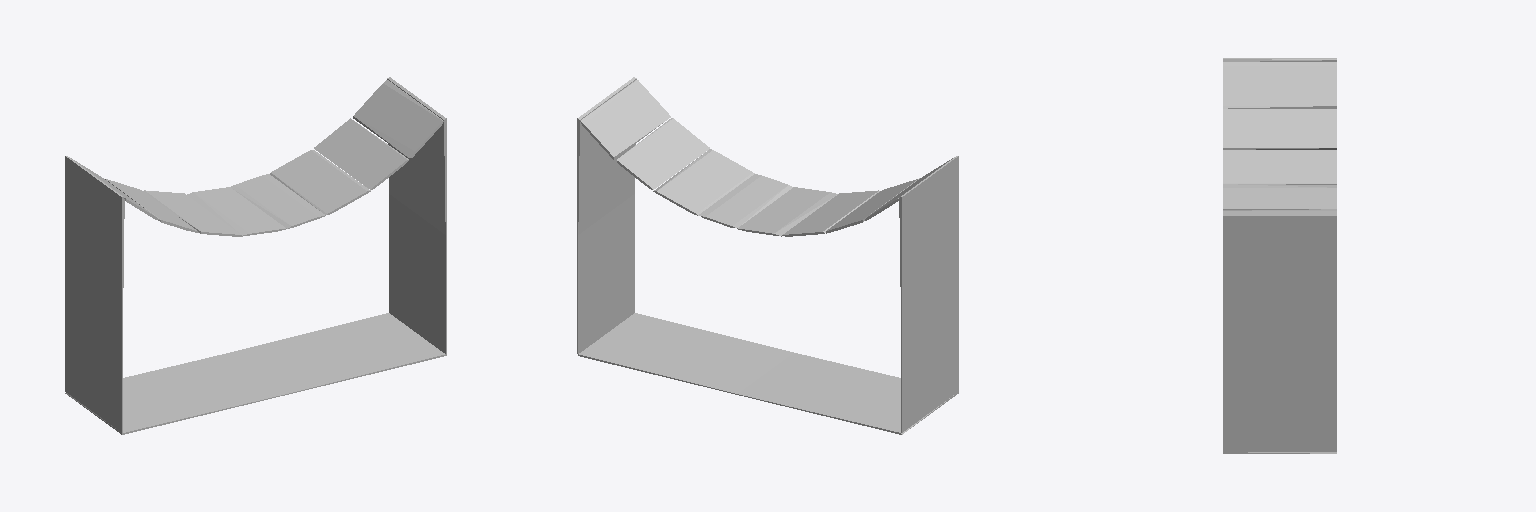
File: concave-object-vhacd.obj
3 renders of one model, left to right at view 1: azimuth 30°, elevation 25°; view 2: azimuth 150°, elevation 25°; view 3: azimuth 270°, elevation 25°, orthographic.
Parts seen in each view (by area): view 1: convex_3, convex_0, convex_2, convex_4, convex_1, convex_5, convex_13, convex_12, convex_11, convex_10, convex_9, convex_8 (+1 smaller); view 2: convex_3, convex_0, convex_2, convex_4, convex_1, convex_5, convex_13, convex_12, convex_11, convex_10, convex_9, convex_8 (+1 smaller); view 3: convex_4, convex_5, convex_6, convex_7, convex_8, convex_9, convex_10.
Part boxes in pixels (bbox=[...]): convex_3: bbox=[230, 313, 446, 394]; convex_0: bbox=[65, 353, 286, 434]; convex_2: bbox=[65, 156, 124, 318]; convex_4: bbox=[389, 194, 446, 353]; convex_1: bbox=[65, 278, 122, 432]; convex_5: bbox=[387, 77, 446, 234]; convex_13: bbox=[353, 80, 443, 157]; convex_12: bbox=[314, 118, 408, 189]; convex_11: bbox=[270, 150, 370, 214]; convex_10: bbox=[231, 174, 325, 228]; convex_9: bbox=[187, 187, 286, 236]; convex_8: bbox=[144, 190, 241, 236]; convex_3: bbox=[578, 313, 793, 394]; convex_0: bbox=[737, 353, 958, 434]; convex_2: bbox=[899, 156, 958, 318]; convex_4: bbox=[577, 194, 634, 353]; convex_1: bbox=[901, 278, 958, 432]; convex_5: bbox=[577, 77, 636, 234]; convex_13: bbox=[580, 80, 670, 159]; convex_12: bbox=[617, 118, 709, 189]; convex_11: bbox=[653, 149, 754, 215]; convex_10: bbox=[699, 174, 792, 227]; convex_9: bbox=[737, 187, 837, 236]; convex_8: bbox=[782, 190, 879, 236]; convex_4: bbox=[1223, 333, 1336, 451]; convex_5: bbox=[1223, 216, 1336, 332]; convex_6: bbox=[1223, 62, 1336, 108]; convex_7: bbox=[1223, 109, 1336, 149]; convex_8: bbox=[1223, 150, 1336, 183]; convex_9: bbox=[1223, 184, 1336, 209]; convex_10: bbox=[1223, 209, 1336, 215].
Bounding box in the file's own units: 1 × 0.7016 × 0.3038.